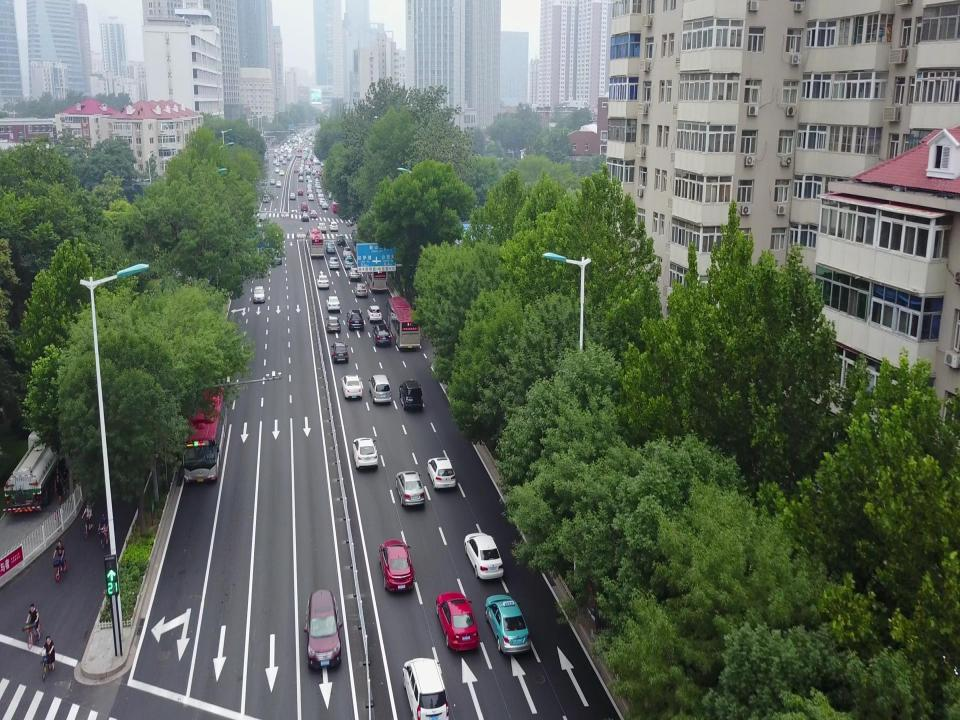bus: (182, 377, 226, 485), (387, 296, 421, 348), (350, 229, 374, 263), (364, 261, 388, 291), (308, 228, 324, 258), (332, 192, 346, 213), (313, 159, 320, 171)
car: (303, 589, 343, 668), (403, 657, 449, 720), (485, 594, 532, 654), (436, 591, 480, 651), (464, 532, 504, 580), (379, 539, 415, 592), (395, 470, 425, 507), (427, 457, 457, 489), (352, 437, 378, 470), (399, 380, 423, 411), (341, 375, 362, 399), (372, 324, 392, 346), (330, 339, 348, 363), (346, 308, 364, 331), (325, 314, 341, 332), (367, 304, 382, 323), (252, 285, 266, 303), (326, 295, 340, 312), (354, 283, 368, 297), (348, 266, 361, 281), (316, 274, 329, 288), (270, 252, 282, 265), (343, 257, 355, 269), (328, 257, 339, 269), (326, 241, 336, 254), (316, 222, 326, 233), (336, 235, 346, 245), (342, 246, 352, 256), (329, 222, 338, 231), (259, 213, 267, 222), (300, 202, 308, 211), (301, 213, 309, 221), (309, 210, 317, 218), (319, 198, 327, 206), (262, 194, 269, 203), (317, 191, 324, 199), (289, 192, 296, 200), (316, 185, 322, 194), (322, 202, 329, 209), (317, 196, 325, 202), (308, 193, 314, 201), (328, 192, 334, 199), (298, 188, 304, 195), (306, 188, 312, 195), (269, 178, 275, 185), (314, 182, 320, 189), (275, 181, 281, 187), (298, 176, 304, 182), (307, 183, 313, 189), (314, 172, 320, 178), (298, 172, 304, 178), (306, 174, 311, 181), (279, 170, 284, 176), (308, 179, 312, 185), (318, 170, 322, 176), (275, 167, 279, 173), (294, 167, 298, 173), (273, 159, 277, 165), (306, 170, 310, 176), (320, 160, 324, 166), (315, 177, 319, 182), (312, 170, 316, 175), (276, 161, 280, 166), (282, 160, 286, 165), (299, 169, 303, 174), (307, 167, 311, 172), (300, 163, 304, 168), (299, 166, 303, 170), (305, 166, 309, 170), (300, 160, 304, 164)
truck: (4, 416, 78, 524)
van: (368, 374, 391, 403), (261, 179, 267, 185), (306, 159, 311, 166)
